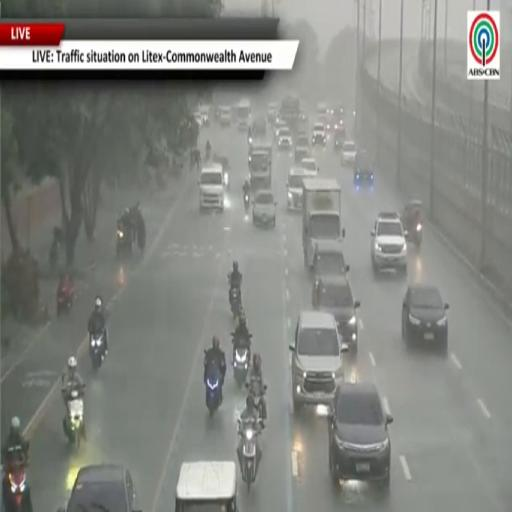car: (328, 381, 393, 490), (289, 311, 348, 412), (58, 464, 141, 511), (312, 276, 360, 353), (402, 284, 449, 354), (175, 461, 237, 511), (371, 213, 407, 275), (312, 239, 349, 280), (198, 164, 224, 211), (253, 189, 276, 227), (286, 168, 305, 210), (249, 148, 270, 170), (354, 167, 374, 189), (295, 133, 309, 163), (342, 141, 357, 166), (277, 126, 292, 150), (333, 123, 345, 151), (312, 122, 326, 146), (300, 157, 319, 174), (252, 116, 266, 138), (355, 149, 371, 168), (316, 103, 329, 126), (274, 119, 287, 141), (218, 106, 232, 126), (267, 103, 278, 124), (200, 105, 209, 125), (300, 101, 308, 121), (194, 111, 203, 126)
motorcycle: (3, 456, 32, 511), (239, 420, 258, 492), (67, 390, 83, 450), (233, 335, 251, 388), (246, 380, 267, 421), (206, 364, 222, 415), (49, 227, 64, 269), (116, 221, 132, 258), (57, 286, 76, 316), (90, 331, 104, 371), (406, 221, 422, 248), (230, 287, 242, 319), (409, 222, 422, 248), (244, 194, 250, 212), (205, 146, 211, 161)
truck: (303, 178, 344, 268), (279, 95, 300, 131), (236, 99, 251, 132)
